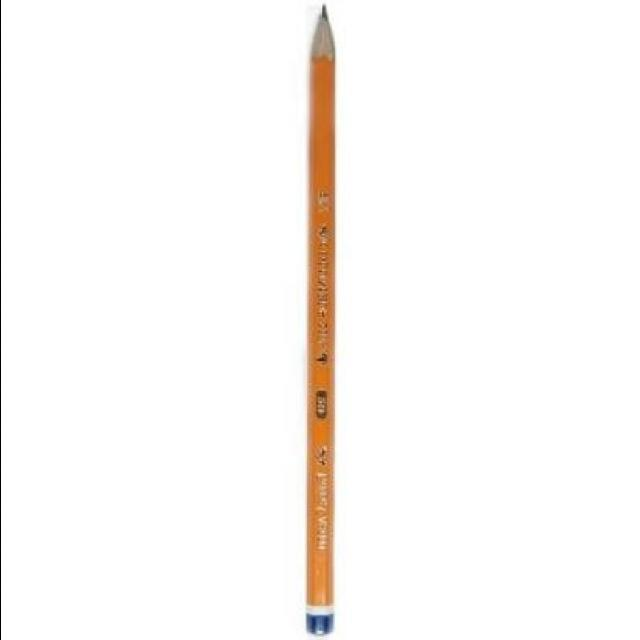pencil: (302, 0, 342, 82)
